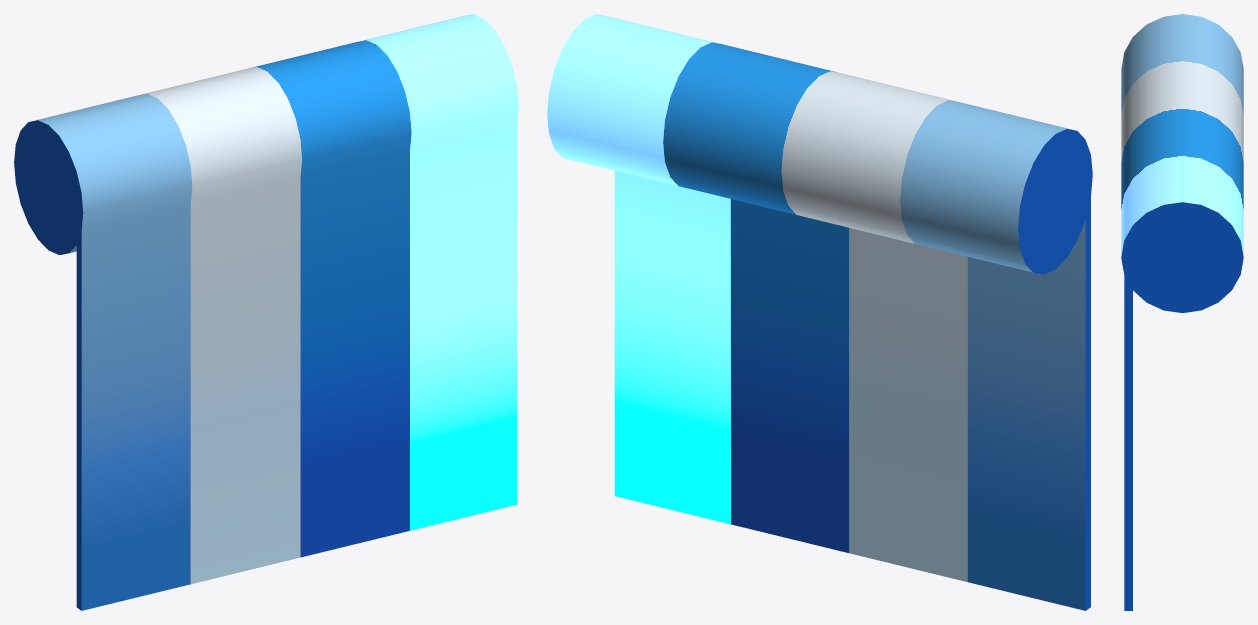
File: ColorSet_02.glb
3 views of the same model, side by side, from view 1: azimuth 30°, elevation 25°; view 2: azimuth 150°, elevation 25°; view 3: azimuth 270°, elevation 25° (orthographic). The views are drawn at different scales.
Parts seen in each view (by area): view 1: ColorSet_02; view 2: ColorSet_02; view 3: ColorSet_02.
Part boxes in pixels (box(x1,y1,x2,y2)): ColorSet_02: box(14, 14, 518, 610); ColorSet_02: box(547, 14, 1092, 610); ColorSet_02: box(1121, 14, 1243, 610).
Size of the model in its own units: 0.6697 by 0.6784 by 0.1842.
1 material, 1 textured.
